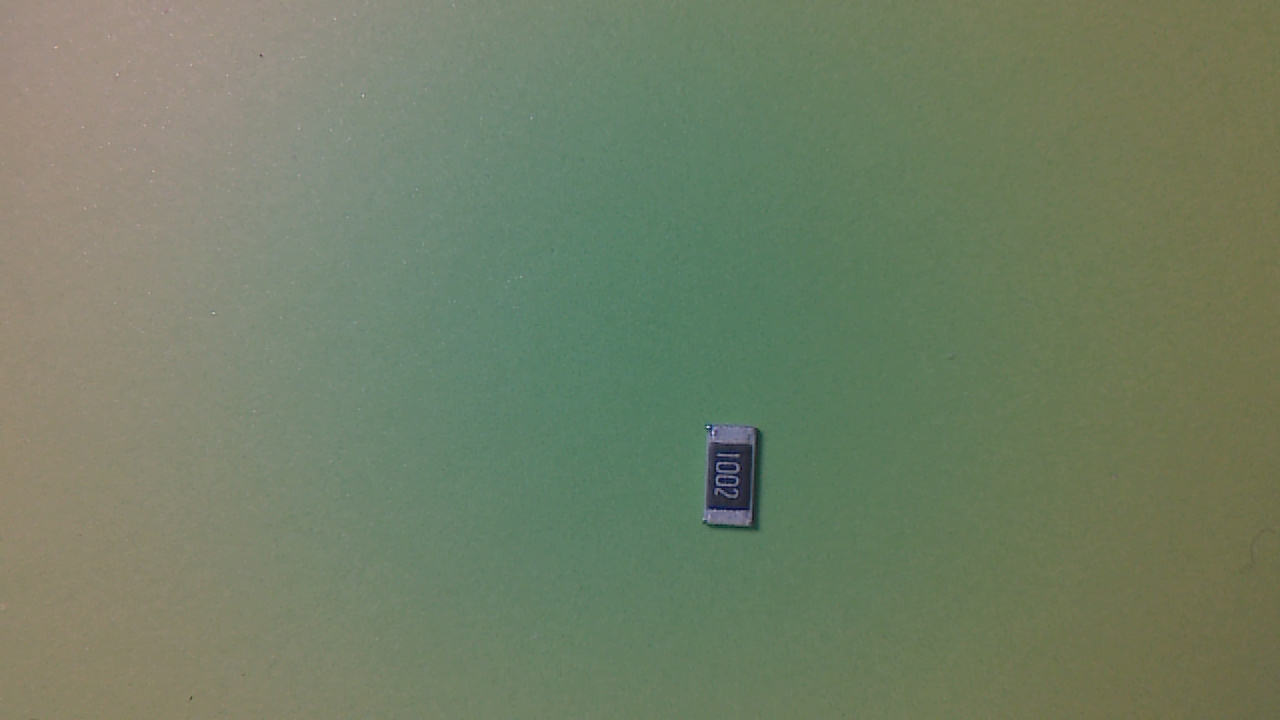Resistor: (706, 424, 770, 540)
